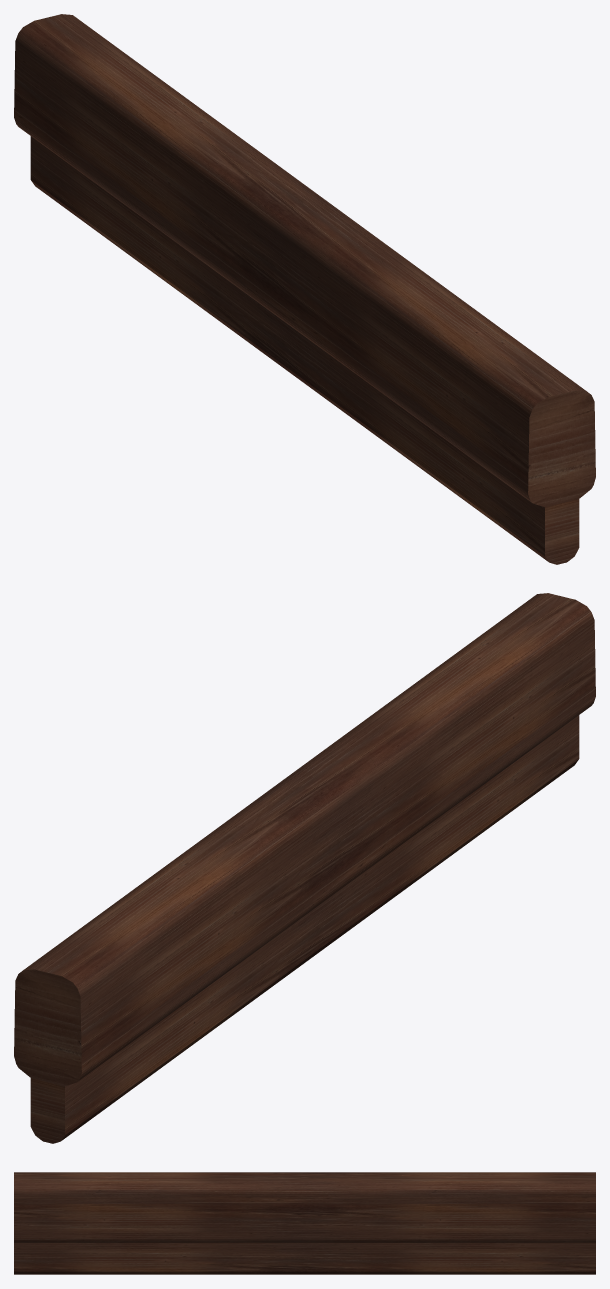
File: SM_R_Dancheong_32.fbx
3 views of the same model, one above another, from view 1: azimuth 30°, elevation 25°; view 2: azimuth 150°, elevation 25°; view 3: azimuth 270°, elevation 25° (orthographic). The views are drawn at different scales.
Visible parts, largest first — view 1: SM_R_Dancheong_32; view 2: SM_R_Dancheong_32; view 3: SM_R_Dancheong_32.
Part boxes in pixels (x1,y1,x2,y2): SM_R_Dancheong_32: [14, 14, 595, 564]; SM_R_Dancheong_32: [14, 593, 595, 1143]; SM_R_Dancheong_32: [14, 1172, 595, 1274].
Bounding box in the file's own units: 21.06 × 276 × 50.36.
Materials: 1 (1 with a texture image).
